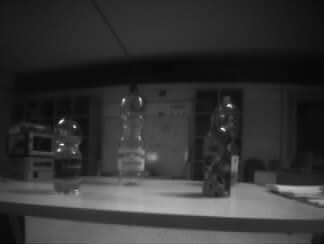Bottle: (205, 98, 237, 193), (117, 87, 145, 180), (54, 116, 81, 193)
